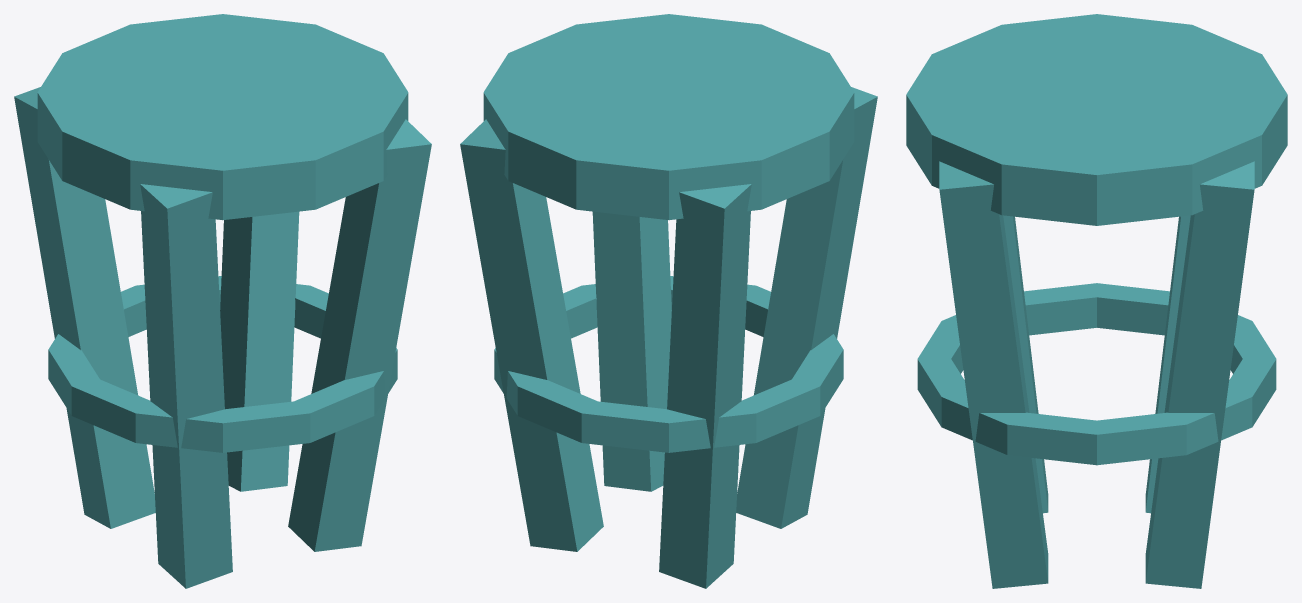
File: indian-bazaar-street-and-temple-plastic-stool-blue-8046f0e6__36580.glb
3 views of the same model, side by side, from view 1: azimuth 30°, elevation 25°; view 2: azimuth 150°, elevation 25°; view 3: azimuth 270°, elevation 25° (orthographic). The views are drawn at different scales.
Visible parts, largest first — view 1: plastic-stool-blue-crimson; view 2: plastic-stool-blue-crimson; view 3: plastic-stool-blue-crimson.
Part boxes in pixels (x1,y1,x2,y2): plastic-stool-blue-crimson: (14, 14, 431, 588); plastic-stool-blue-crimson: (460, 14, 877, 588); plastic-stool-blue-crimson: (906, 14, 1287, 588).
Size of the model in its own units: 0.34 by 0.443 by 0.34.
